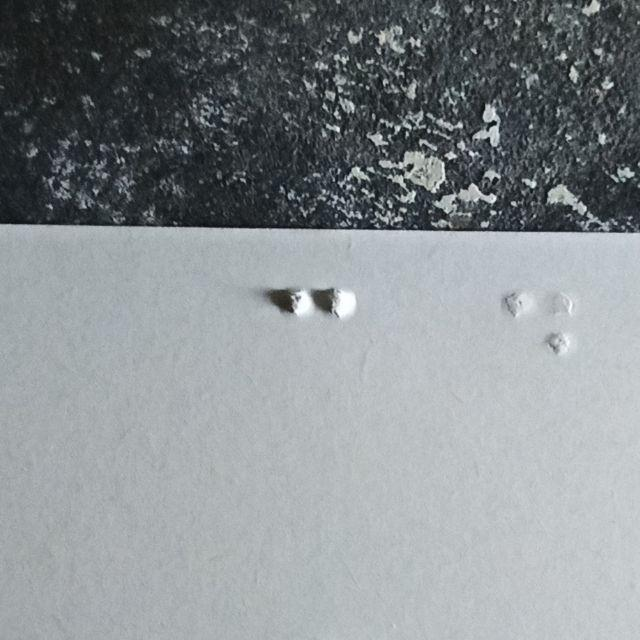c: (277, 286, 360, 402)
